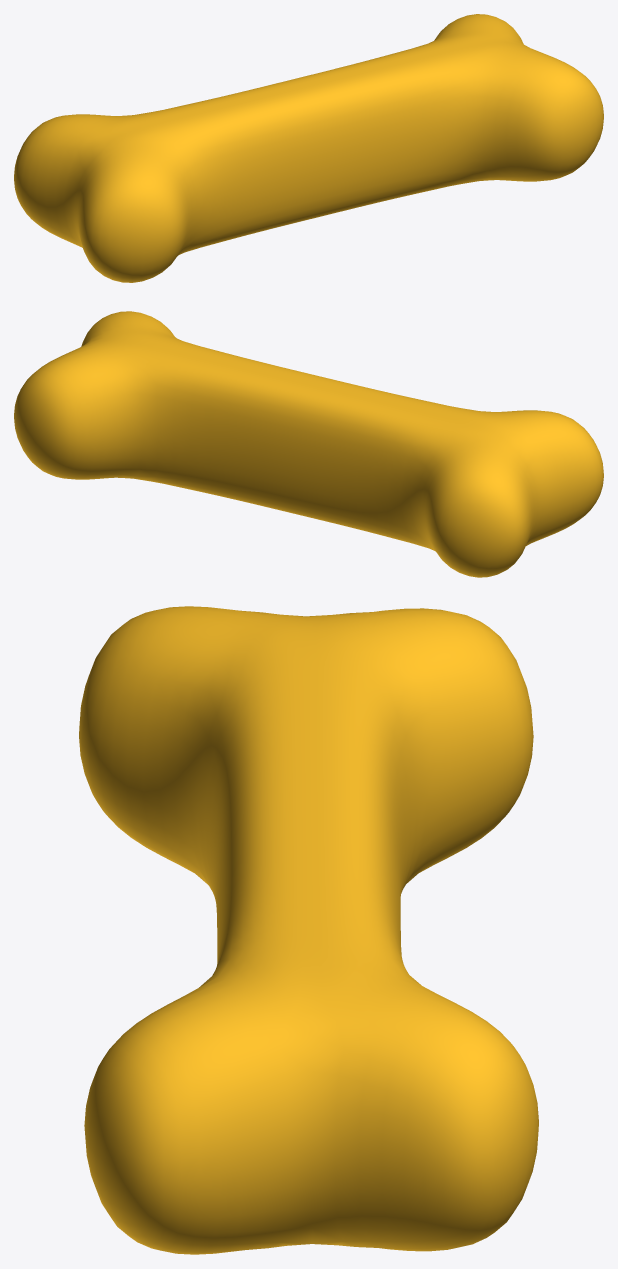
File: Bone.fbx
The picture shows the model from 3 angles, top to bottom: view 1: azimuth 30°, elevation 25°; view 2: azimuth 150°, elevation 25°; view 3: azimuth 270°, elevation 25°; orthographic projection. The views are drawn at different scales.
Visible parts, largest first — view 1: Cube; view 2: Cube; view 3: Cube.
Part boxes in pixels (<box>): Cube: <box>14,14,603,282</box>; Cube: <box>14,311,603,577</box>; Cube: <box>79,606,538,1254</box>.
Size of the model in its own units: 8124 by 1903 by 3146.
